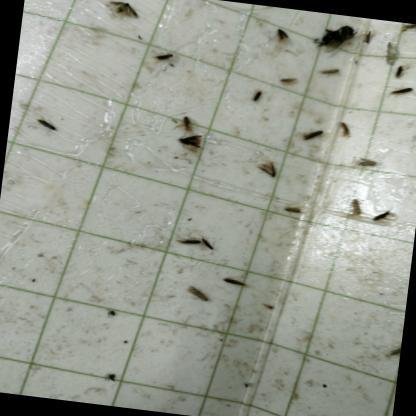prays_oleae: (249, 144, 281, 192), (170, 125, 207, 157), (342, 188, 369, 230), (185, 274, 211, 308), (368, 200, 396, 231), (218, 268, 251, 294), (277, 197, 304, 225), (315, 60, 341, 89), (355, 149, 380, 179), (297, 121, 324, 148), (34, 112, 61, 138), (196, 227, 216, 253), (388, 79, 415, 98), (272, 76, 299, 94), (152, 50, 174, 72), (180, 231, 202, 251), (246, 84, 264, 107), (392, 58, 408, 82)
